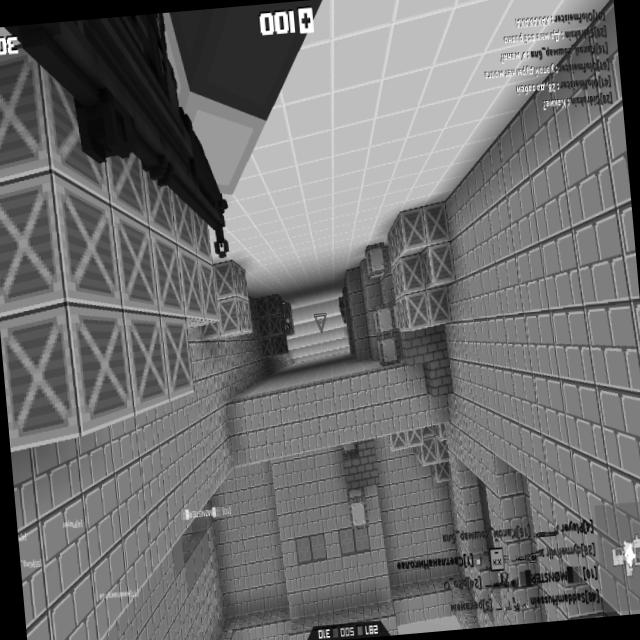enemy: (280, 300, 291, 334), (337, 295, 346, 324)
